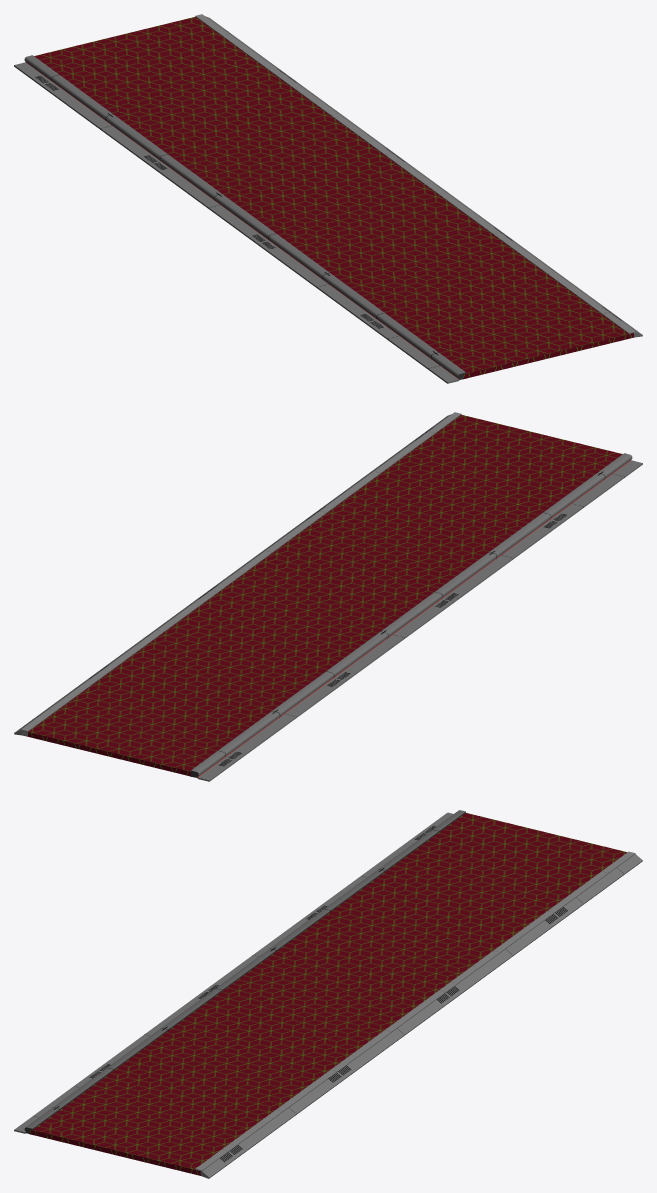
The model's file is Floor_add_02_straight_16m_a.fbx.
3 renders of one model, top to bottom at view 1: azimuth 30°, elevation 25°; view 2: azimuth 150°, elevation 25°; view 3: azimuth 330°, elevation 25°, orthographic.
Visible parts, largest first — view 1: Floor_add_02_straight_16m_a; view 2: Floor_add_02_straight_16m_a; view 3: Floor_add_02_straight_16m_a.
Boxes of the visible parts, <box> form: Floor_add_02_straight_16m_a: <box>14,14,642,383</box>; Floor_add_02_straight_16m_a: <box>14,412,642,781</box>; Floor_add_02_straight_16m_a: <box>14,810,642,1178</box>.
Bounding box in the file's own units: 4.17 × 0.1475 × 16.
